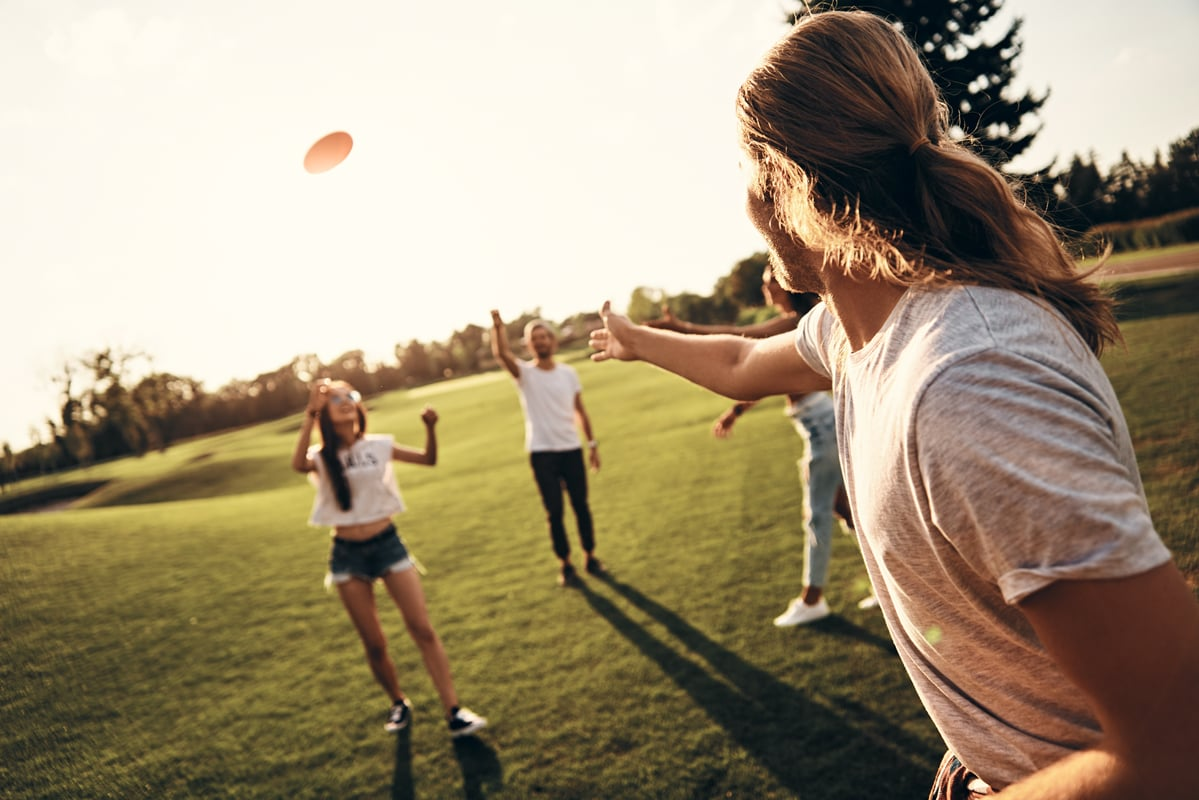disc: (305, 129, 360, 175)
